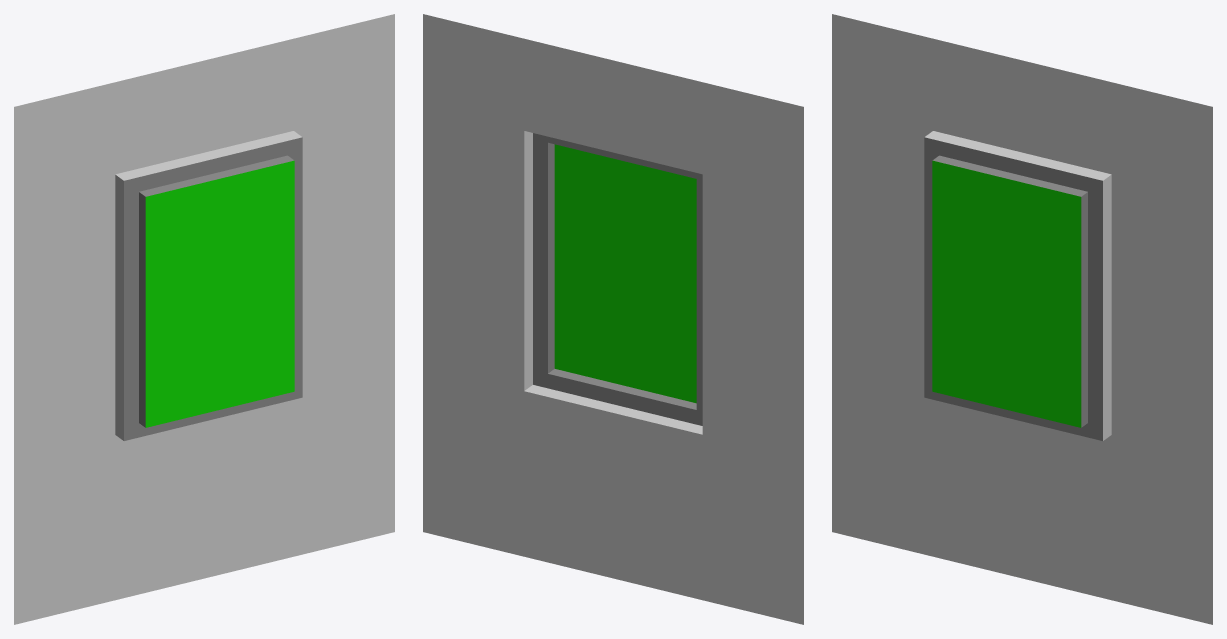
Rendered from Wall03_2m.fbx.
The picture shows the model from 3 angles, left to right: view 1: azimuth 30°, elevation 25°; view 2: azimuth 150°, elevation 25°; view 3: azimuth 330°, elevation 25°; orthographic projection.
Visible parts, largest first — view 1: Wall03_2m; view 2: Wall03_2m; view 3: Wall03_2m.
Part boxes in pixels (bbox=[...]): Wall03_2m: bbox=[14, 14, 394, 624]; Wall03_2m: bbox=[423, 14, 803, 624]; Wall03_2m: bbox=[832, 14, 1212, 624].
Bounding box in the file's own units: 2 × 2.6 × 0.1425.
